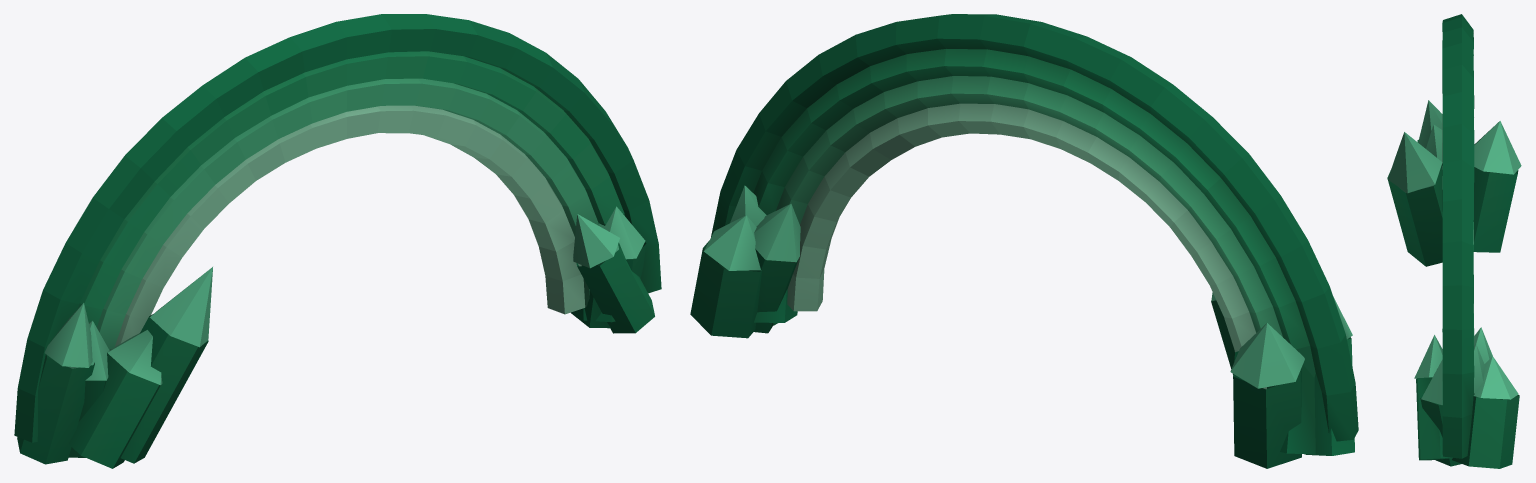
Rendered from rainbow.glb.
3 renders of one model, left to right at view 1: azimuth 30°, elevation 25°; view 2: azimuth 150°, elevation 25°; view 3: azimuth 270°, elevation 25°, orthographic. The views are drawn at different scales.
Visible parts, largest first — view 1: band0_m, base, band3_m, band1_m, band2_m; view 2: band0_m, base, band3_m, band1_m, band2_m; view 3: base, band0_m.
Boxes of the visible parts, x1=… form: band0_m: x1=14, y1=14, x2=661, y2=442; base: x1=17, y1=206, x2=654, y2=468; band3_m: x1=115, y1=105, x2=585, y2=365; band1_m: x1=78, y1=51, x2=633, y2=326; band2_m: x1=96, y1=78, x2=599, y2=350; band0_m: x1=711, y1=14, x2=1358, y2=441; base: x1=690, y1=185, x2=1354, y2=468; band3_m: x1=787, y1=103, x2=1266, y2=389; band1_m: x1=753, y1=49, x2=1315, y2=377; band2_m: x1=776, y1=76, x2=1282, y2=336; base: x1=1387, y1=100, x2=1521, y2=468; band0_m: x1=1442, y1=14, x2=1474, y2=458.
Bounding box in the file's own units: 1.9 × 1.04 × 0.4065.
